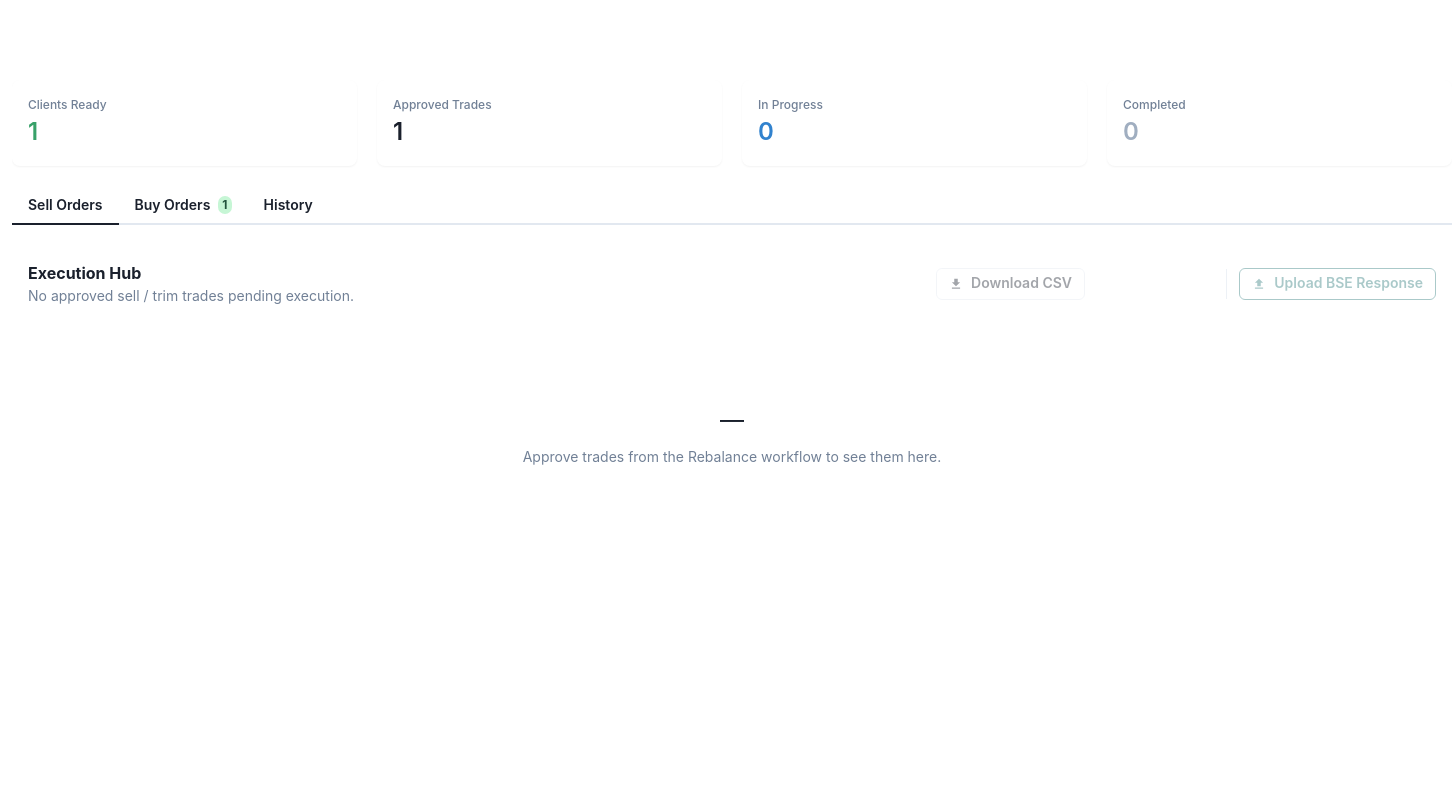
Test: BseOrderFile — multi-user scenario (Surbhi fix) › [BseOrderFile] user-002 APPROVED BUY trades appear in Buy tab
Click the tab with test id "tab-buy-orders" at (183, 206), box [118,186,248,225]
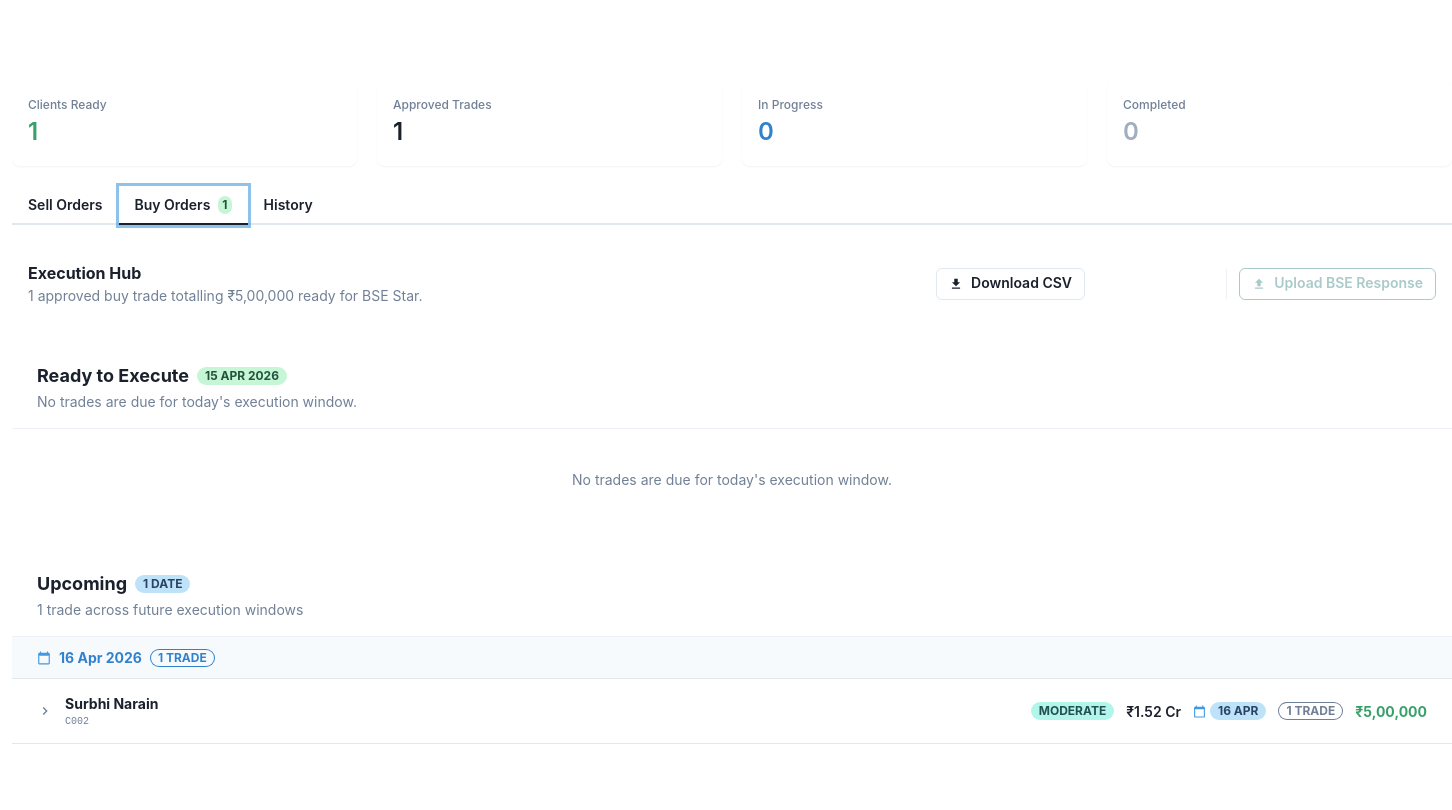
Expected: the button with test id "client-card-user-002" is shown, [37,695,1427,727]
